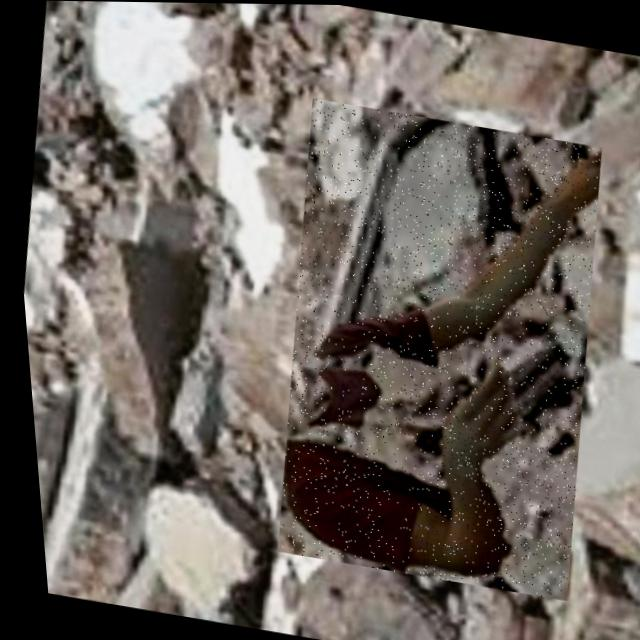Person in Rubble: (239, 95, 628, 599)
